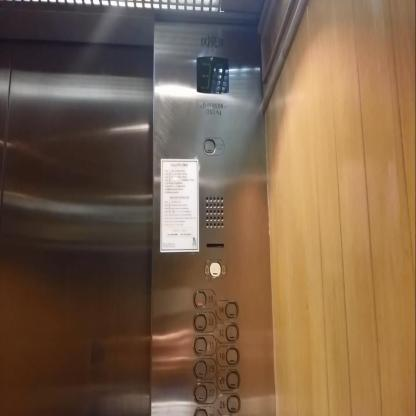26: (216, 393, 240, 414)
27: (193, 382, 217, 402)
28: (216, 369, 240, 390)
29: (193, 358, 217, 378)
30: (216, 345, 239, 366)
31: (192, 334, 216, 355)
32: (215, 322, 239, 343)
33: (193, 312, 216, 332)
34: (215, 299, 239, 320)
35: (193, 288, 216, 309)
alarm: (204, 259, 226, 279)
blur: (202, 136, 224, 155)
led: (196, 56, 229, 94)
